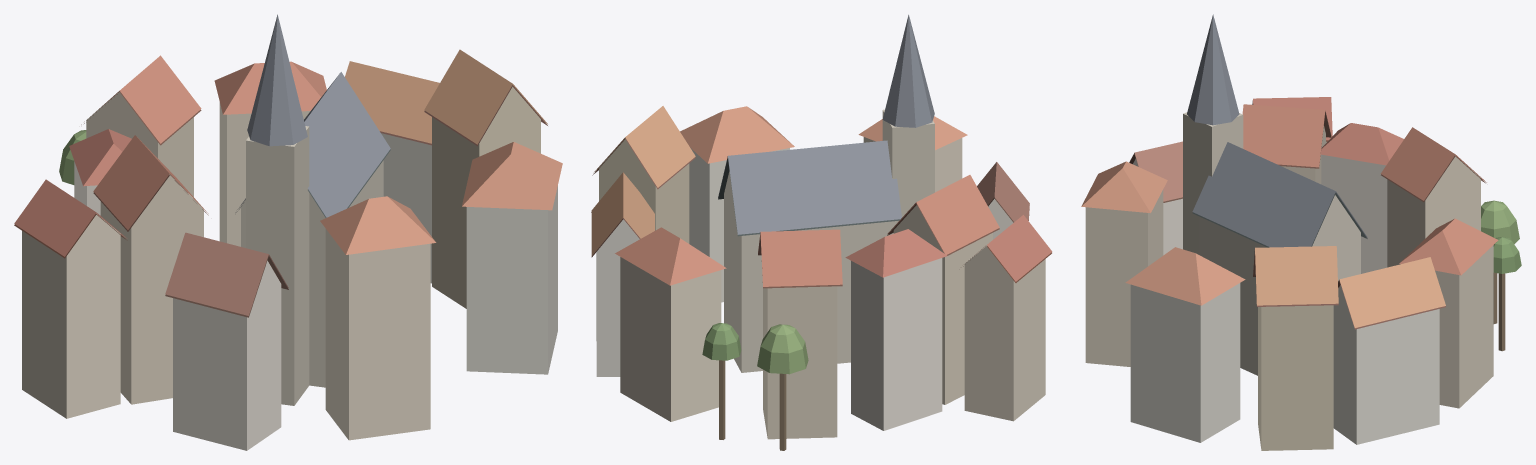
The model's file is town_a.glb.
3 renders of one model, left to right at view 1: azimuth 30°, elevation 25°; view 2: azimuth 150°, elevation 25°; view 3: azimuth 270°, elevation 25°, orthographic. The views are drawn at different scales.
Visible parts, largest first — view 1: town_a; view 2: town_a; view 3: town_a.
Part boxes in pixels (x1,y1,x2,y2): town_a: (14, 14, 562, 450); town_a: (591, 14, 1052, 450); town_a: (1081, 14, 1521, 450).
Bounding box in the file's own units: 24.61 × 18.12 × 22.79.
